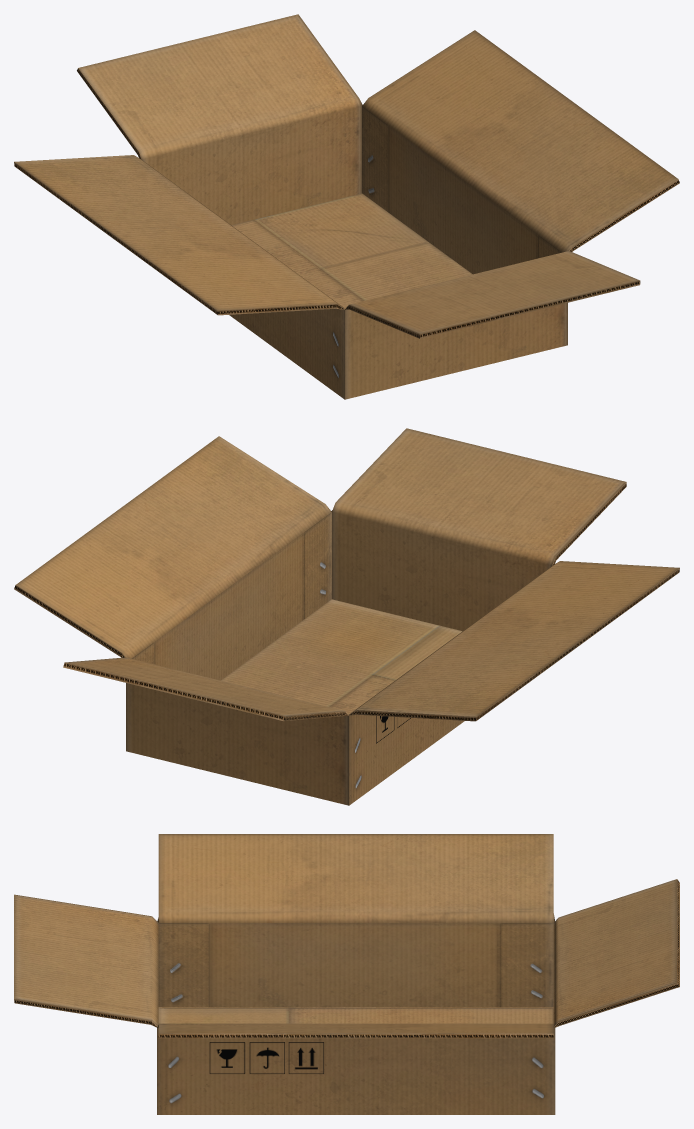
The model's file is ms_paper_box_small_open.fbx.
The picture shows the model from 3 angles, top to bottom: view 1: azimuth 30°, elevation 25°; view 2: azimuth 150°, elevation 25°; view 3: azimuth 270°, elevation 25°; orthographic projection. The views are drawn at different scales.
Parts seen in each view (by area): view 1: ms_paper_box_small_open; view 2: ms_paper_box_small_open; view 3: ms_paper_box_small_open.
Boxes of the visible parts, left/top/right/bottom form: ms_paper_box_small_open: left=14, top=14, right=679, bottom=399; ms_paper_box_small_open: left=14, top=428, right=679, bottom=805; ms_paper_box_small_open: left=14, top=834, right=679, bottom=1114.
Size of the model in its own units: 54.3 by 15.54 by 69.86.
